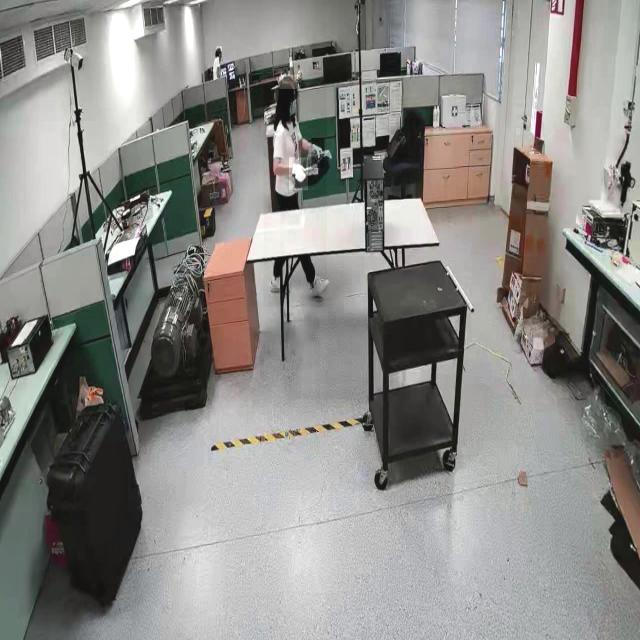face_mask: (282, 89, 300, 122)
hand_glove: (289, 157, 308, 190), (312, 138, 324, 168)
head_nohelmet: (279, 74, 298, 90), (216, 46, 222, 52)
person: (263, 85, 327, 308)
shoes: (308, 271, 330, 305), (266, 271, 292, 298)
